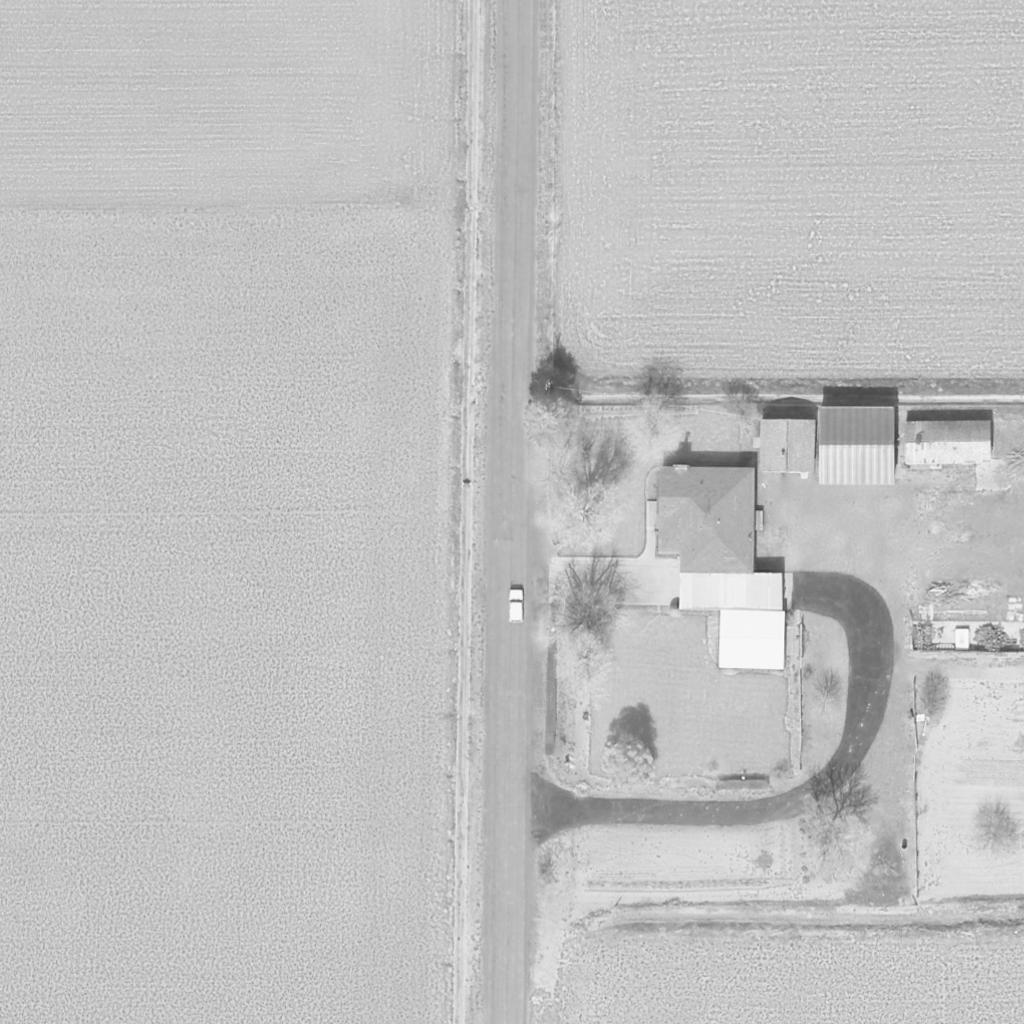vehicle: (507, 587, 525, 625)
